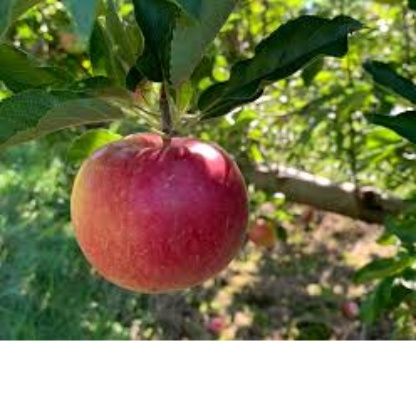tao: (70, 119, 248, 300)
